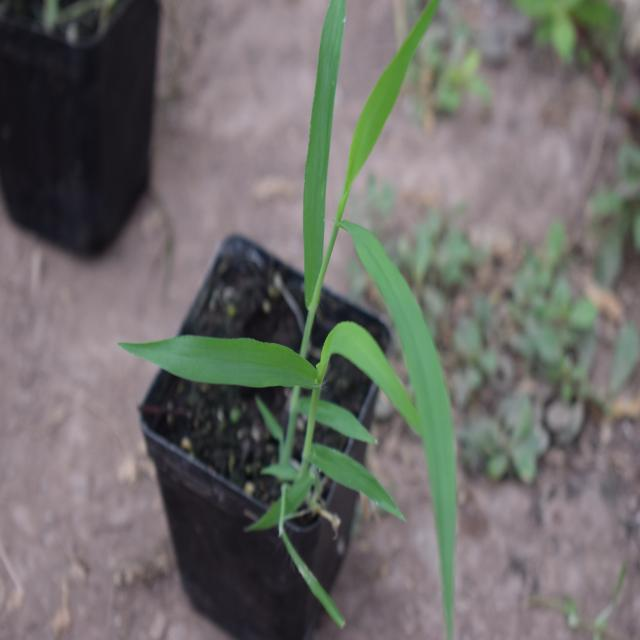crabgrass: (186, 26, 464, 556)
